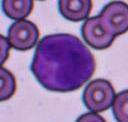M: (32, 32, 96, 92)
